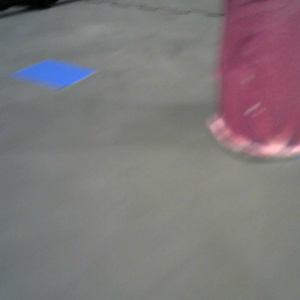Right: (216, 1, 300, 154)
